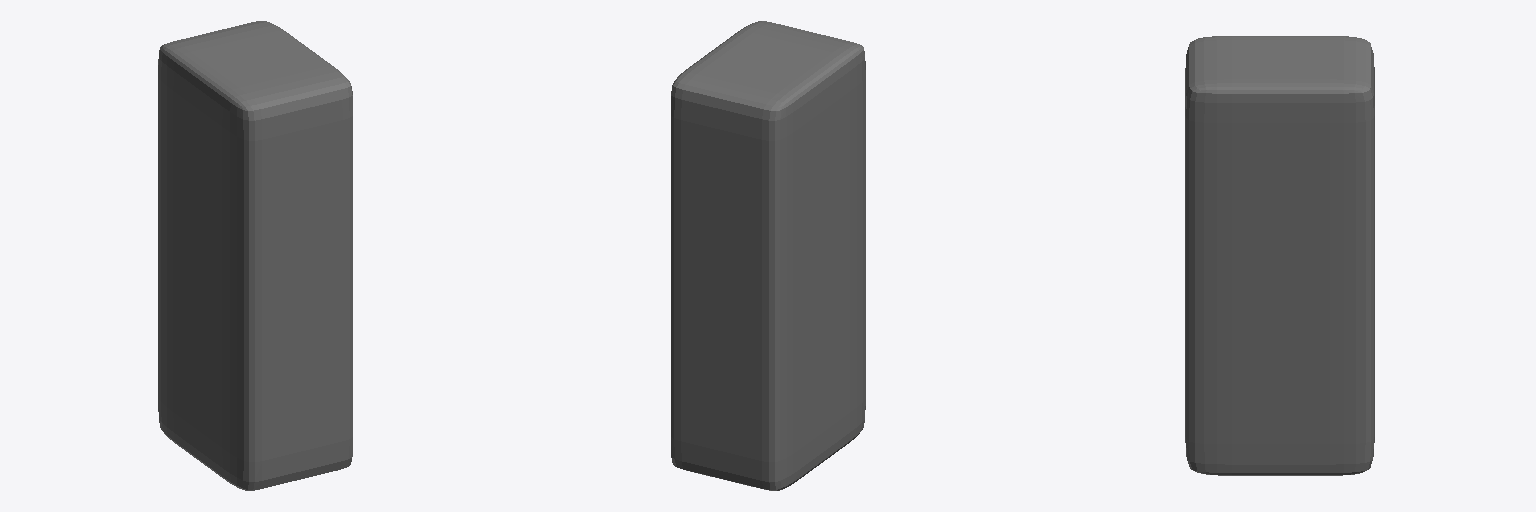
3 renders of one model, left to right at view 1: azimuth 30°, elevation 25°; view 2: azimuth 150°, elevation 25°; view 3: azimuth 270°, elevation 25°, orthographic.
Parts seen in each view (by area): view 1: polySurface13 text2FixedOneObjectNewNoHistory:pasted__T1; view 2: polySurface13 text2FixedOneObjectNewNoHistory:pasted__T1; view 3: polySurface13 text2FixedOneObjectNewNoHistory:pasted__T1.
Boxes of the visible parts, <box> form: polySurface13 text2FixedOneObjectNewNoHistory:pasted__T1: <box>158,21,352,490</box>; polySurface13 text2FixedOneObjectNewNoHistory:pasted__T1: <box>671,21,865,490</box>; polySurface13 text2FixedOneObjectNewNoHistory:pasted__T1: <box>1185,36,1374,475</box>.
Size of the model in its own units: 119 by 387 by 170.